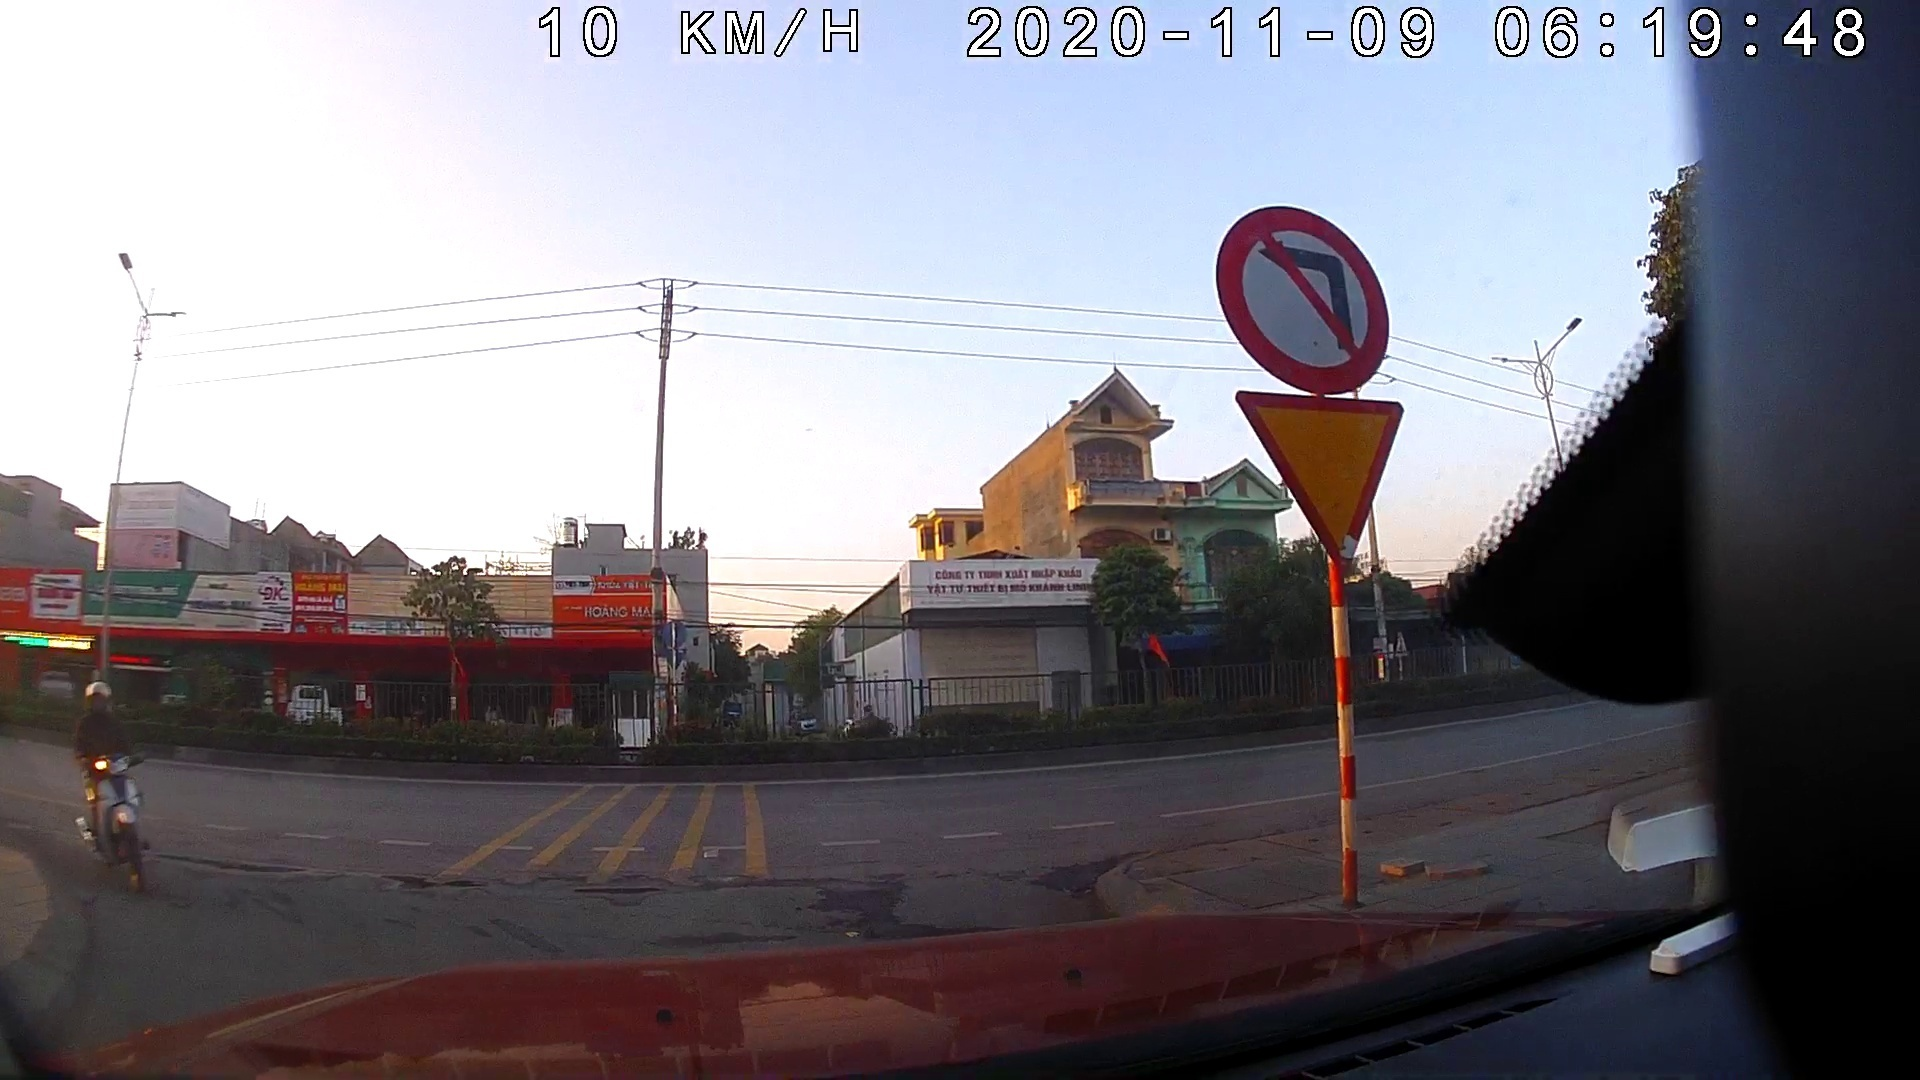Bien khac: (1216, 203, 1393, 394), (1236, 382, 1404, 564)
